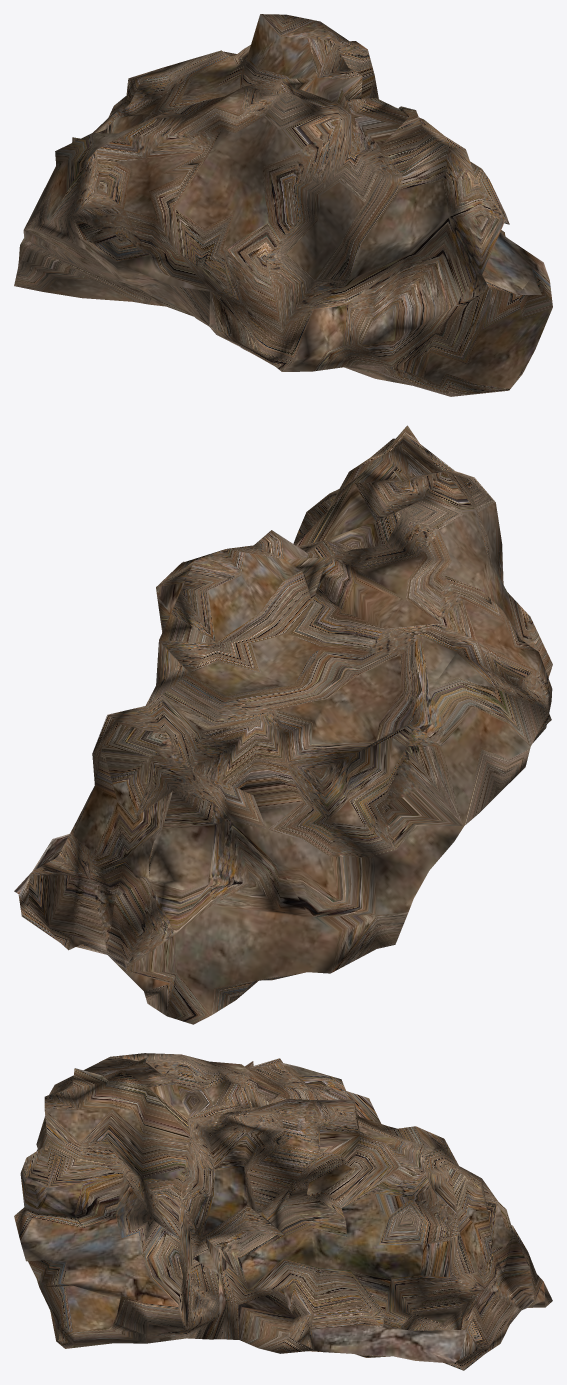
File: boulder.glb
3 views of the same model, one above another, from view 1: azimuth 30°, elevation 25°; view 2: azimuth 150°, elevation 25°; view 3: azimuth 270°, elevation 25° (orthographic). The views are drawn at different scales.
Parts seen in each view (by area): view 1: boulder_01; view 2: boulder_01; view 3: boulder_01.
Part boxes in pixels (left/top/right/bottom): boulder_01: left=14, top=14, right=552, bottom=396; boulder_01: left=14, top=425, right=552, bottom=1024; boulder_01: left=14, top=1053, right=552, bottom=1370.
Size of the model in its own units: 1.24 by 0.9976 by 1.82.
Materials: 1 (1 with a texture image).
